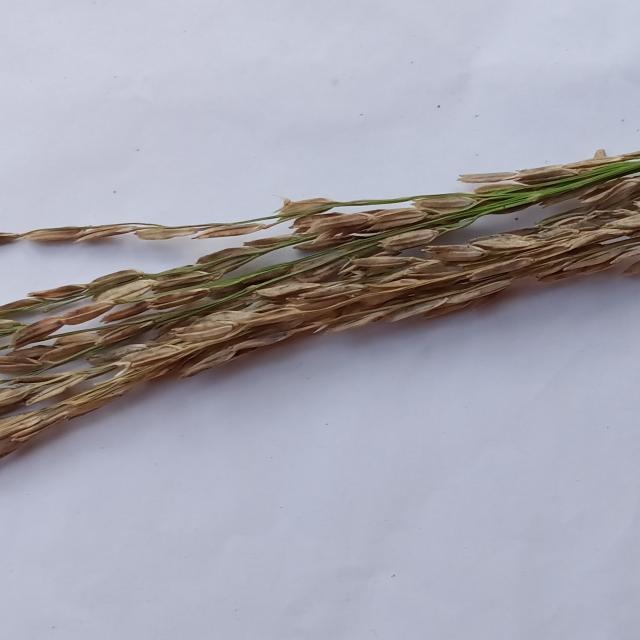Neck_Blast: (1, 182, 640, 479), (0, 174, 526, 381)
